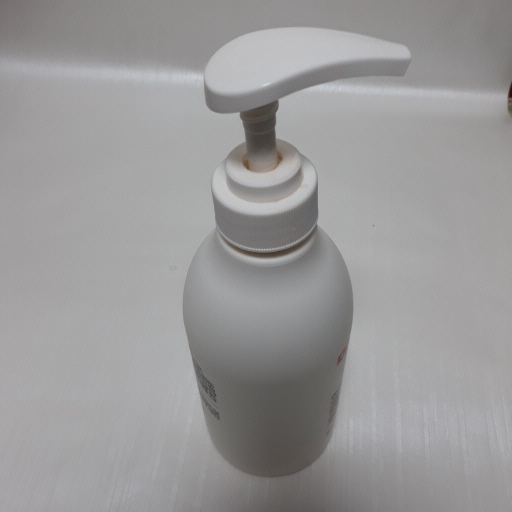Plastic_3: (182, 25, 414, 481)
